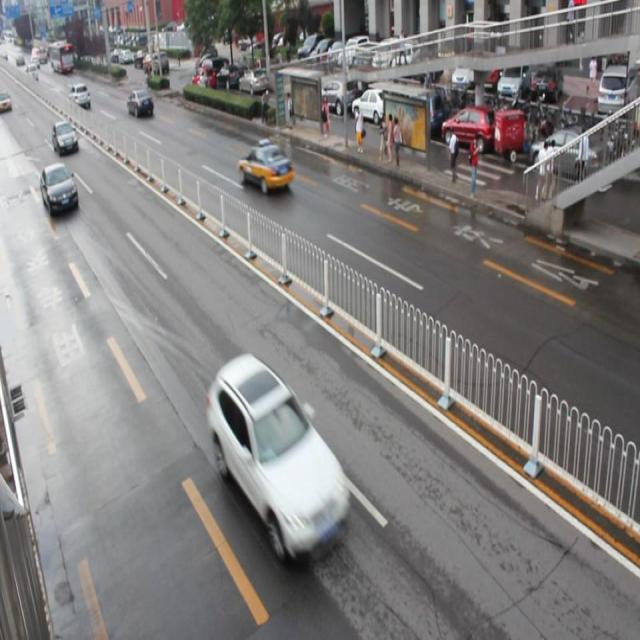car: (208, 354, 348, 557), (238, 142, 294, 195), (41, 161, 78, 215), (52, 119, 78, 157), (128, 88, 153, 120)
